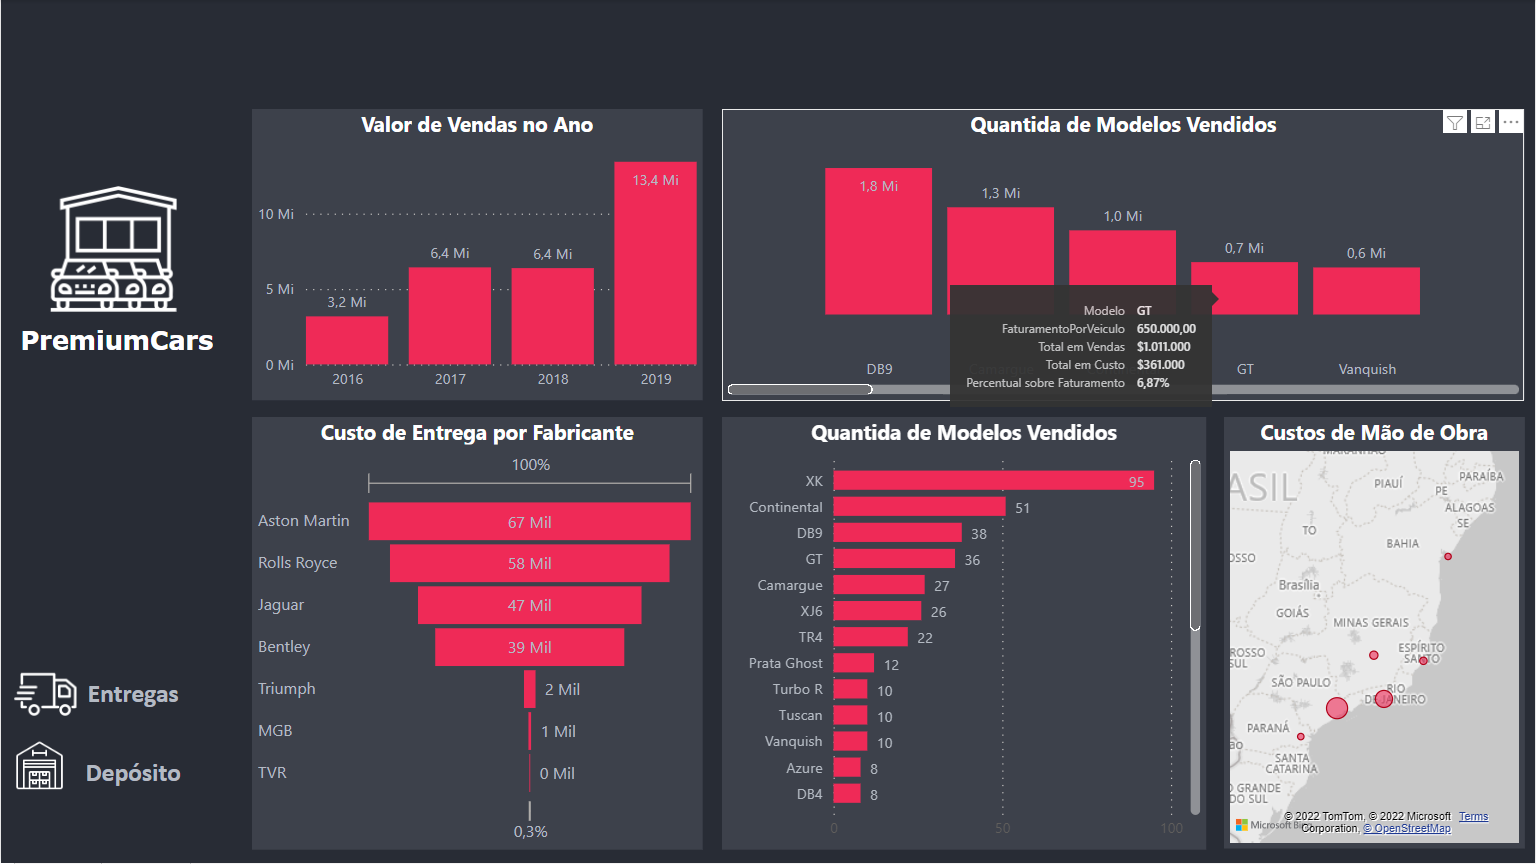

Layout of this report page (visuals, bound fields, positions):
{"tool":"powerbi","page":{"name":"Financeiro","canvas":[1280,720],"ordinal":0},"visuals":[{"type":"columnChart","title":"Valor de Vendas no Ano","fields":{"Category":["VendaCarros.Ano"],"Y":["Sum(VendaCarros.ValorVenda)"]},"box":[209.5,91.3,375.9,243.5],"z":0},{"type":"image","box":[5.4,547.8,64.4,61.8],"z":0,"group":"g2"},{"type":"funnel","title":"Custo de Entrega por Fabricante","fields":{"Category":["VendaCarros.Fabricante"],"Y":["Sum(VendaCarros.CustoEntrega)"]},"box":[209.5,348.2,375.9,360.7],"z":1000},{"type":"textbox","box":[35.8,560.3,148.6,36.7],"z":1000,"group":"g2"},{"type":"map","title":"Custos de Mão de Obra","fields":{"Category":["VendaCarros.Estado"],"Size":["Sum(VendaCarros.CustoMaoDeObra)"]},"box":[1020.2,348,250.6,360.4],"z":2000},{"type":"clusteredBarChart","title":"Quantida de Modelos Vendidos","fields":{"Category":["VendaCarros.Modelo"],"Y":["CountNonNull(VendaCarros.ValorVenda)"]},"box":[601.5,348.2,403.7,360.7],"z":3000},{"type":"columnChart","title":"Quantida de Modelos Vendidos","fields":{"Category":["VendaCarros.Modelo"],"Y":["Medidas.FaturamentoPorVeiculo"]},"box":[601.5,91.3,669.5,243.5],"z":4000},{"type":"image","box":[2.7,150.4,181.7,115.5],"z":5000},{"type":"textbox","box":[8.1,265.8,176.3,62.7],"z":6000},{"type":"group","id":"g1","title":"Grupo 1","box":[0,606.9,184.4,63.6],"z":7000},{"type":"image","box":[5.4,606.9,53.7,63.6],"z":7000,"group":"g1"},{"type":"actionButton","box":[0,547.8,184.4,59.1],"z":7001,"group":"g2"},{"type":"group","id":"g2","title":"Grupo 2","box":[0,547.8,184.4,61.8],"z":8000},{"type":"textbox","box":[35.8,626.6,148.6,36.7],"z":8000,"group":"g1"},{"type":"actionButton","box":[0,606.9,184.4,61.8],"z":9000,"group":"g1"}]}

Visuals, with their boxes in screenshot pixels (x1, y1, x2, y2), scaled from the page's 1280x720 canvas onto the 1536x864 screenshot:
"Valor de Vendas no Ano" columnChart: {"left": 251, "top": 110, "right": 702, "bottom": 402}
image: {"left": 6, "top": 657, "right": 84, "bottom": 732}
"Custo de Entrega por Fabricante" funnel: {"left": 251, "top": 418, "right": 702, "bottom": 851}
textbox: {"left": 43, "top": 672, "right": 221, "bottom": 716}
"Custos de Mão de Obra" map: {"left": 1224, "top": 418, "right": 1525, "bottom": 850}
"Quantida de Modelos Vendidos" clusteredBarChart: {"left": 722, "top": 418, "right": 1206, "bottom": 851}
"Quantida de Modelos Vendidos" columnChart: {"left": 722, "top": 110, "right": 1525, "bottom": 402}
image: {"left": 3, "top": 180, "right": 221, "bottom": 319}
textbox: {"left": 10, "top": 319, "right": 221, "bottom": 394}
"Grupo 1" group: {"left": 0, "top": 728, "right": 221, "bottom": 805}
image: {"left": 6, "top": 728, "right": 71, "bottom": 805}
actionButton: {"left": 0, "top": 657, "right": 221, "bottom": 728}
"Grupo 2" group: {"left": 0, "top": 657, "right": 221, "bottom": 732}
textbox: {"left": 43, "top": 752, "right": 221, "bottom": 796}
actionButton: {"left": 0, "top": 728, "right": 221, "bottom": 802}
